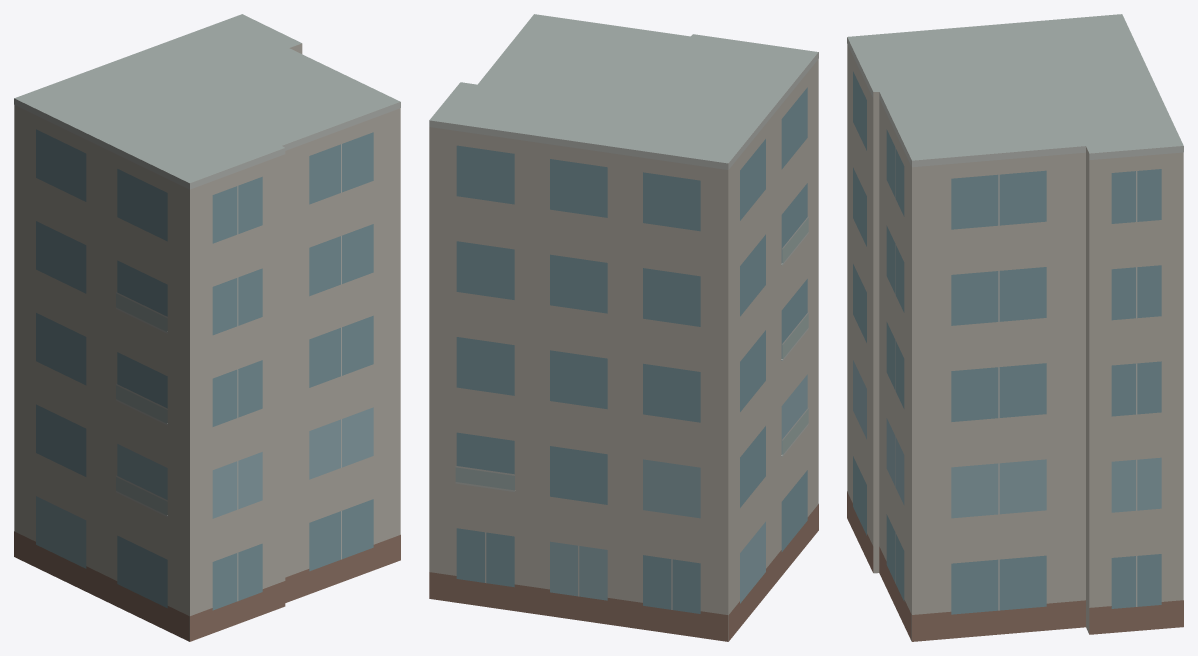
Rendered from survey-upis-33009438.glb.
3 views of the same model, side by side, from view 1: azimuth 30°, elevation 25°; view 2: azimuth 150°, elevation 25°; view 3: azimuth 270°, elevation 25° (orthographic). The views are drawn at different scales.
Parts seen in each view (by area): view 1: survey-upis-33009438.tmp; view 2: survey-upis-33009438.tmp; view 3: survey-upis-33009438.tmp.
Boxes of the visible parts, left/top/right/bottom form: survey-upis-33009438.tmp: left=14, top=14, right=400, bottom=641; survey-upis-33009438.tmp: left=429, top=14, right=818, bottom=641; survey-upis-33009438.tmp: left=847, top=14, right=1183, bottom=641.
Bounding box in the file's own units: 11.58 × 17.7 × 11.23.
